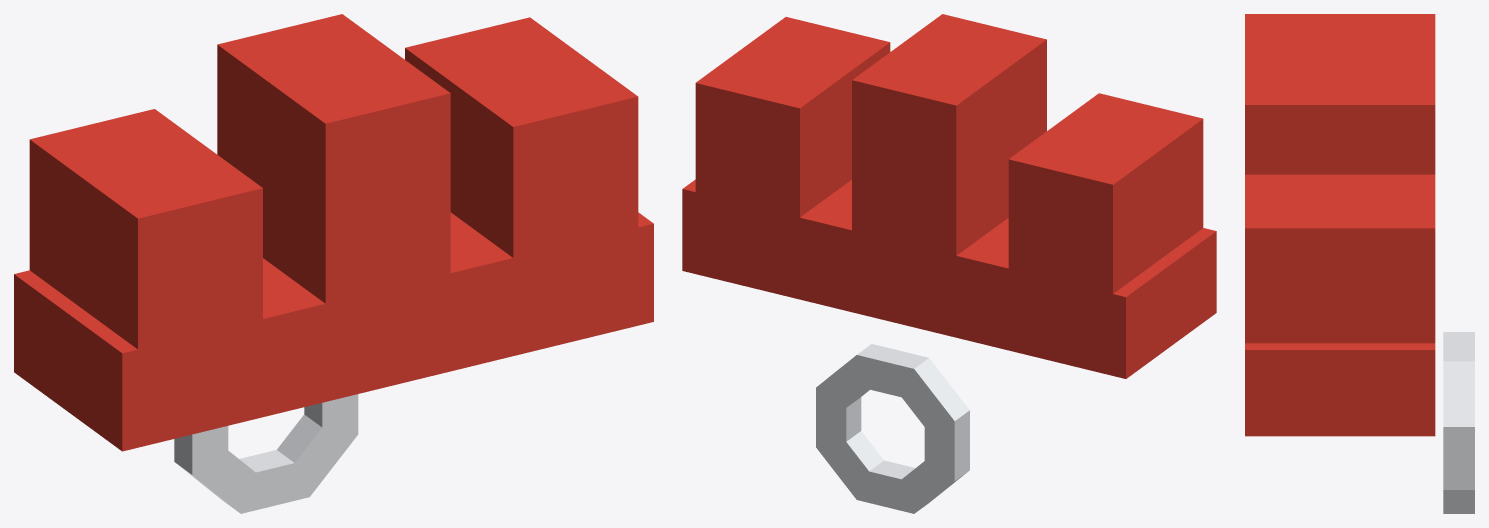
Rendered from pawn_cap.glb.
3 views of the same model, side by side, from view 1: azimuth 30°, elevation 25°; view 2: azimuth 150°, elevation 25°; view 3: azimuth 270°, elevation 25° (orthographic). The views are drawn at different scales.
Parts seen in each view (by area): view 1: pawn_cap; view 2: pawn_cap; view 3: pawn_cap.
Boxes of the visible parts, <box> form: pawn_cap: <box>14,14,653,513</box>; pawn_cap: <box>682,14,1216,513</box>; pawn_cap: <box>1245,14,1474,513</box>.
Size of the model in its own units: 0.34 by 0.2931 by 0.145.
